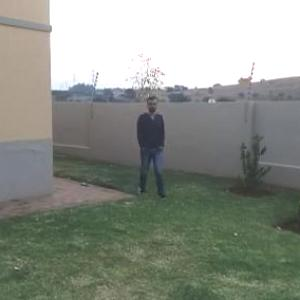follow: (132, 93, 168, 199)
